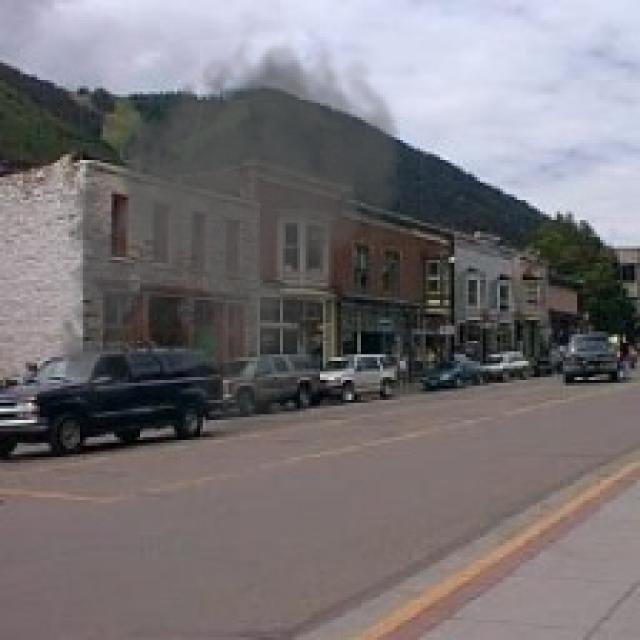smoke: (49, 26, 408, 431)
